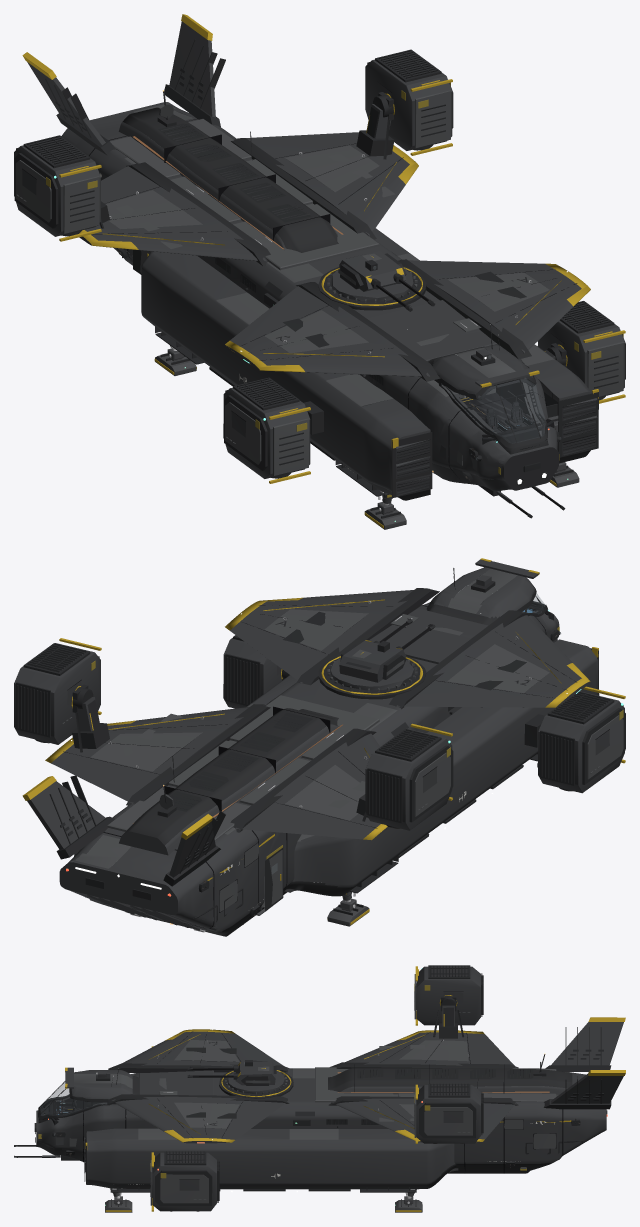
Rendered from HarpyieFern.1b24f69070.glb.
3 views of the same model, one above another, from view 1: azimuth 30°, elevation 25°; view 2: azimuth 150°, elevation 25°; view 3: azimuth 270°, elevation 25° (orthographic). The views are drawn at different scales.
Parts seen in each view (by area): view 1: Dachpanzer.004, Andockring.006, Dachpanzer.005, Bugstirn.001, Auslegerholm.004, Bugsensor.001, Kanzelglas.001, Gondelklappe.010, Duesenschaufel.112, Duesenschaufel.096, Einlassschlitz.006, Gondelklappe.008 (+17 smaller); view 2: Dachpanzer.004, Dachpanzer.005, Andockring.006, Bugstirn.001, Auslegerholm.004, Bugsensor.001, Gondelklappe.010, Andockkern.006, Auslassrahmen.007, Auslassrahmen.006, Gondelklappe.014, Gondelklappe.012 (+13 smaller); view 3: Dachpanzer.004, Andockring.006, Dachpanzer.005, Bugstirn.001, Auslegerholm.004, Gondelklappe.014, Bugsensor.001, Gondelklappe.008, Gondelklappe.010, Duesenschaufel.064, Duesenschaufel.080, Andockkern.006 (+11 smaller).
Boxes of the visible parts, x1=… form: Dachpanzer.004: x1=61, y1=102, x2=591, y2=491; Andockring.006: x1=45, y1=39, x2=598, y2=518; Dachpanzer.005: x1=105, y1=102, x2=554, y2=406; Bugstirn.001: x1=91, y1=107, x2=590, y2=500; Auslegerholm.004: x1=27, y1=21, x2=597, y2=503; Bugsensor.001: x1=55, y1=68, x2=595, y2=495; Kanzelglas.001: x1=373, y1=266, x2=560, y2=459; Gondelklappe.010: x1=365, y1=59, x2=452, y2=150; Duesenschaufel.112: x1=15, y1=160, x2=99, y2=233; Duesenschaufel.096: x1=225, y1=402, x2=309, y2=475; Einlassschlitz.006: x1=155, y1=326, x2=595, y2=496; Gondelklappe.008: x1=538, y1=320, x2=624, y2=397; Dachpanzer.004: x1=50, y1=567, x2=598, y2=932; Dachpanzer.005: x1=70, y1=568, x2=549, y2=868; Andockring.006: x1=49, y1=568, x2=599, y2=922; Bugstirn.001: x1=51, y1=599, x2=598, y2=936; Auslegerholm.004: x1=27, y1=559, x2=557, y2=877; Bugsensor.001: x1=60, y1=611, x2=526, y2=924; Gondelklappe.010: x1=14, y1=643, x2=100, y2=744; Andockkern.006: x1=108, y1=602, x2=531, y2=915; Auslassrahmen.007: x1=367, y1=729, x2=453, y2=828; Auslassrahmen.006: x1=540, y1=692, x2=625, y2=791; Gondelklappe.014: x1=365, y1=728, x2=452, y2=830; Gondelklappe.012: x1=538, y1=691, x2=624, y2=793; Dachpanzer.004: x1=36, y1=1029, x2=606, y2=1184; Andockring.006: x1=14, y1=995, x2=611, y2=1191; Dachpanzer.005: x1=74, y1=1040, x2=556, y2=1139; Bugstirn.001: x1=36, y1=1040, x2=572, y2=1189; Auslegerholm.004: x1=42, y1=1005, x2=623, y2=1173; Gondelklappe.014: x1=416, y1=966, x2=480, y2=1025; Bugsensor.001: x1=34, y1=1047, x2=607, y2=1181; Gondelklappe.008: x1=152, y1=1152, x2=216, y2=1211; Gondelklappe.010: x1=416, y1=1085, x2=480, y2=1143; Duesenschaufel.064: x1=150, y1=1160, x2=208, y2=1205; Duesenschaufel.080: x1=414, y1=1092, x2=472, y2=1137; Andockkern.006: x1=69, y1=1040, x2=556, y2=1148.
Size of the model in its own units: 19.69 by 10.18 by 37.56.
